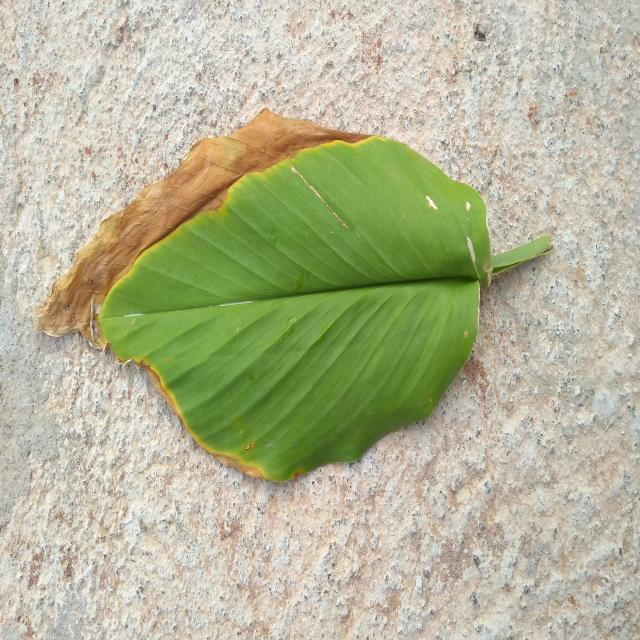leaf blotch: (35, 111, 492, 480)
